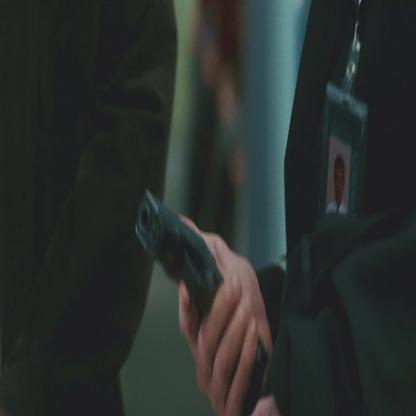gun: (139, 150, 278, 416)
